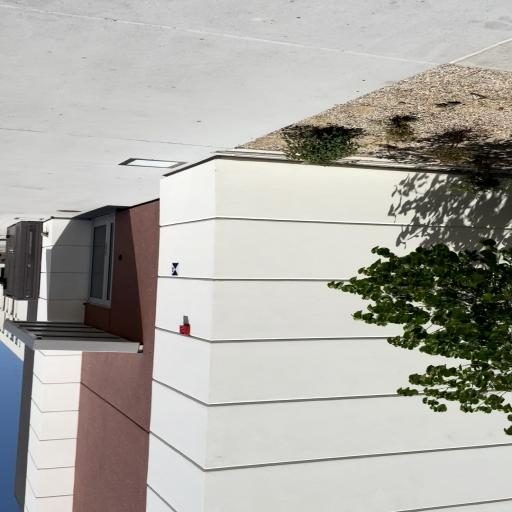target2: (171, 263, 179, 276)
